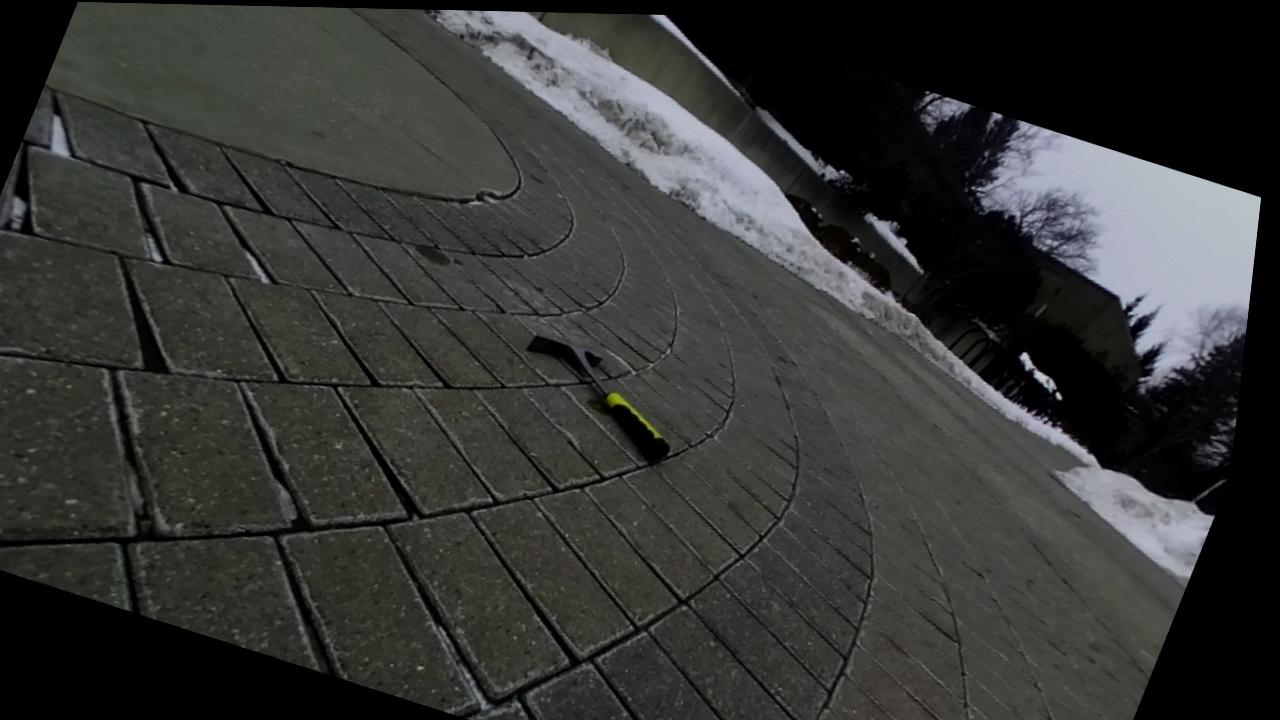pick: (527, 337, 669, 460)
